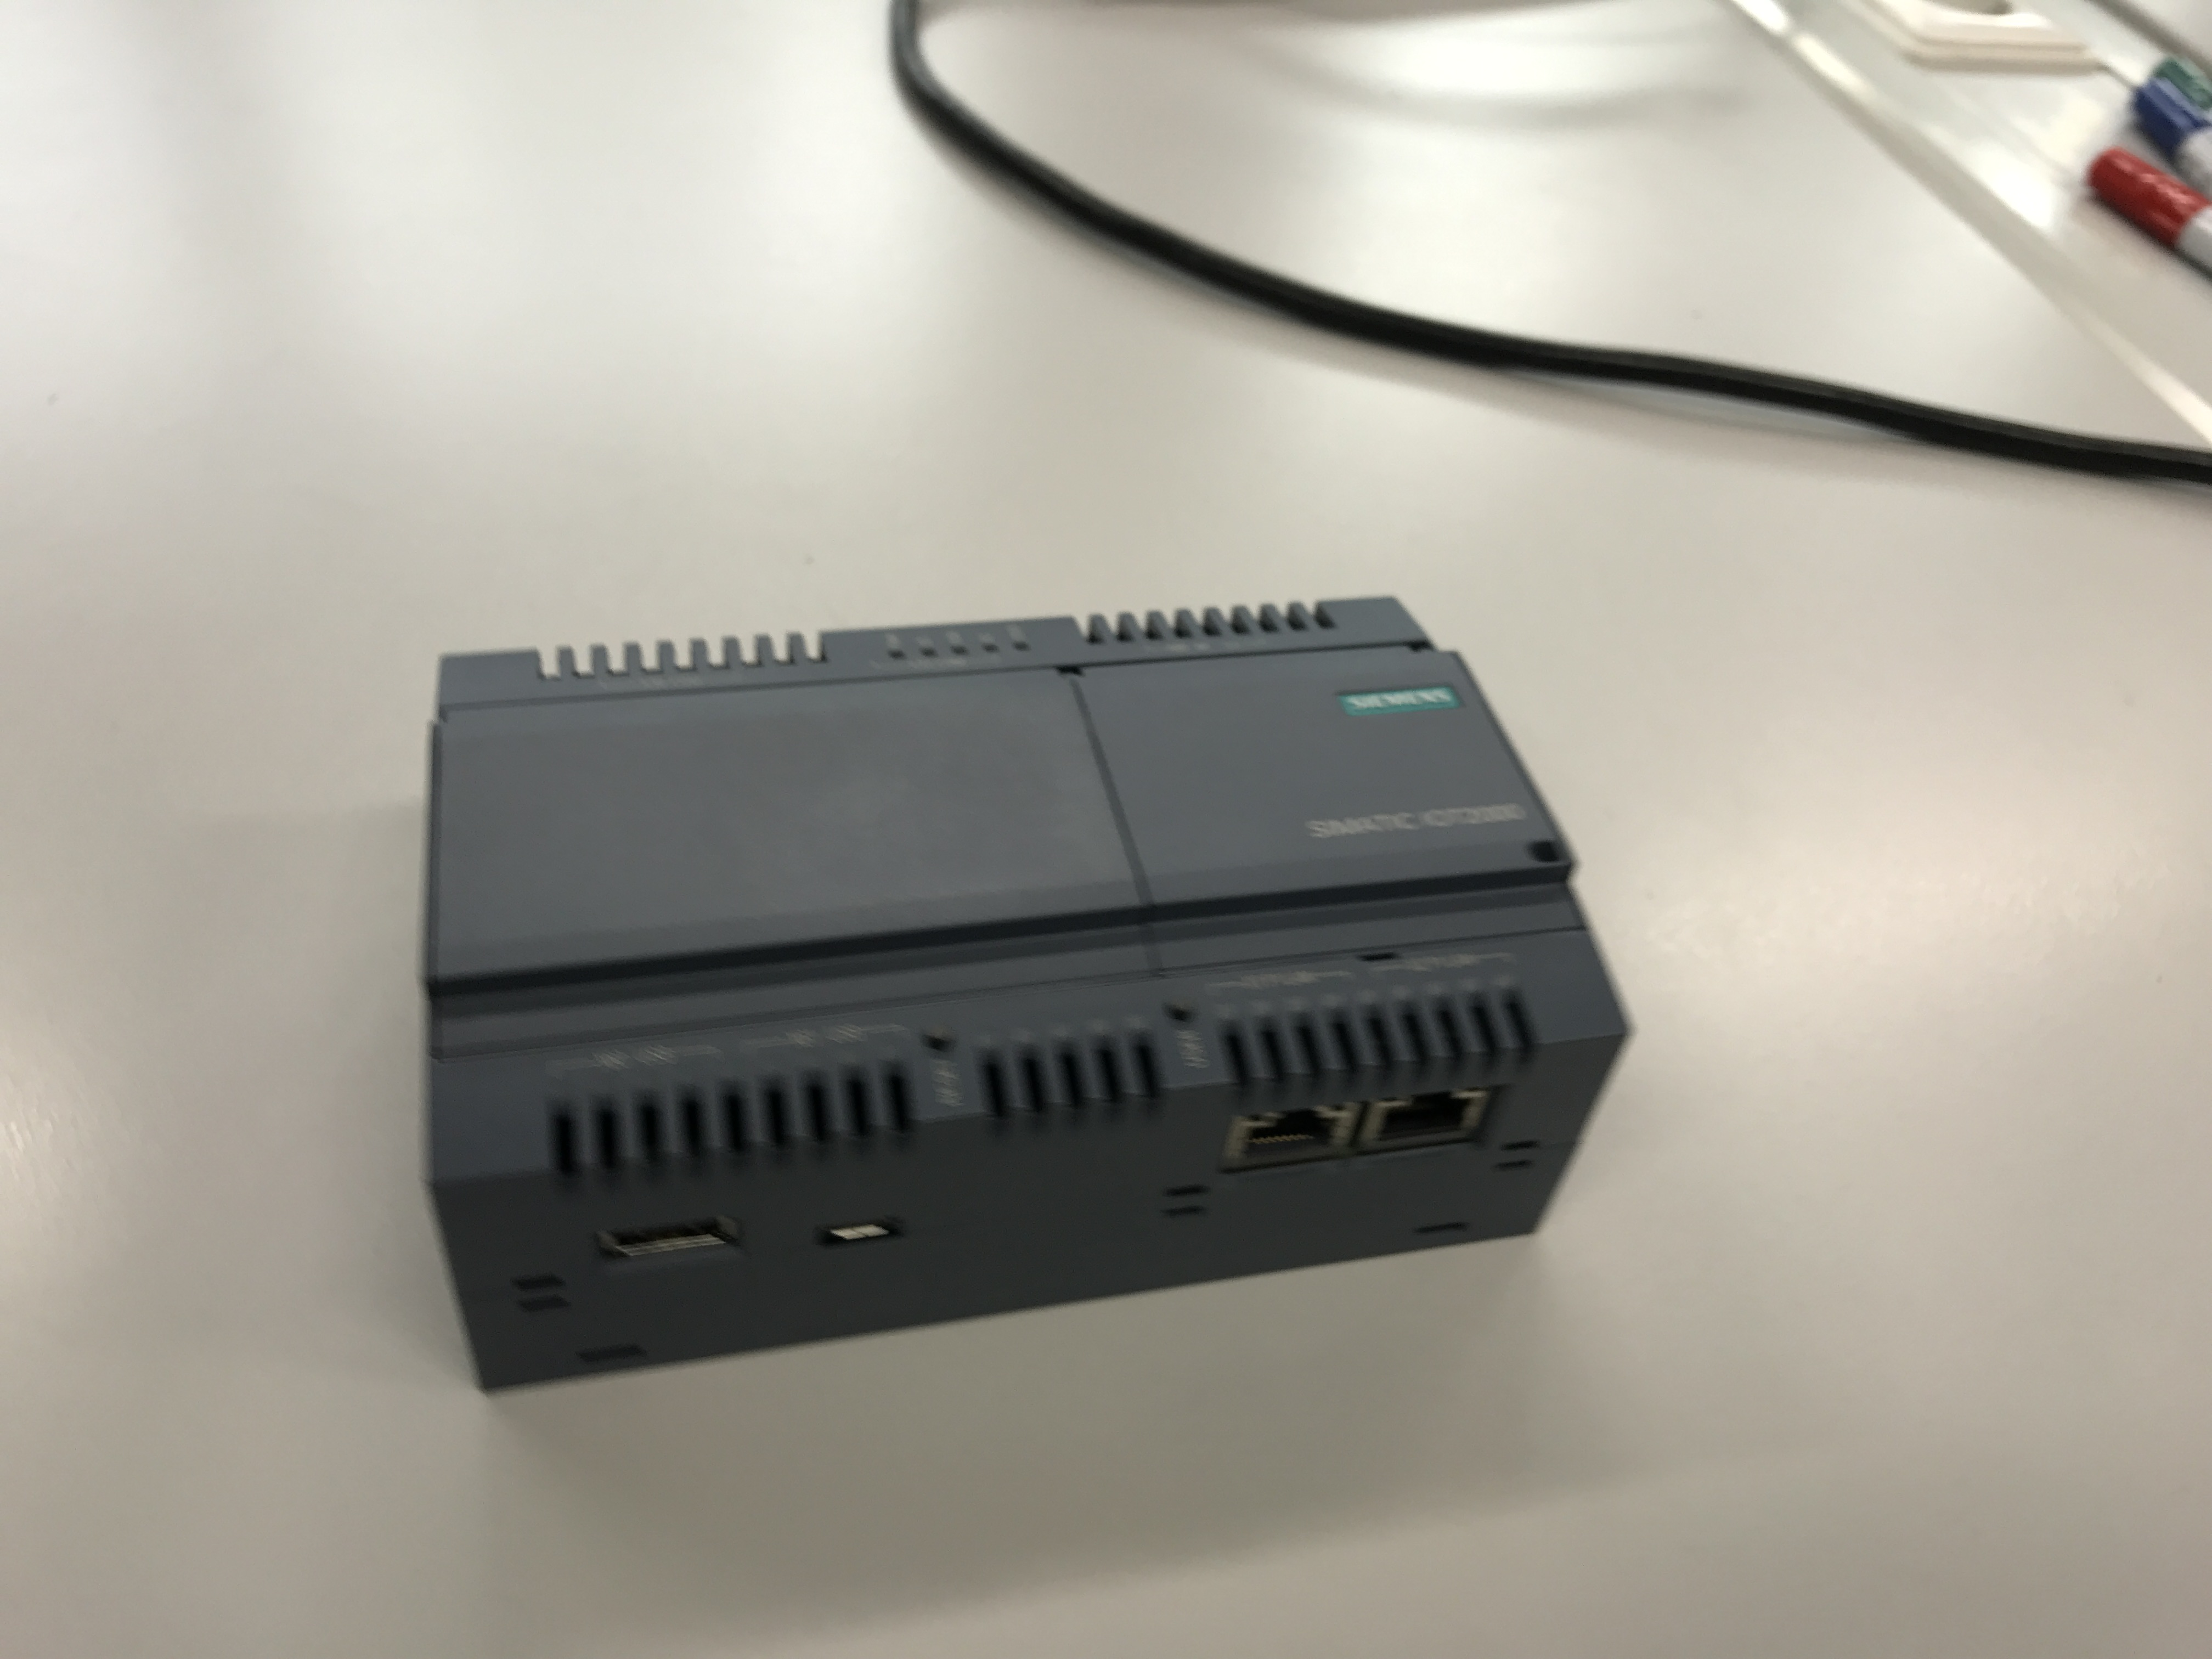device: (420, 594, 1634, 1399)
